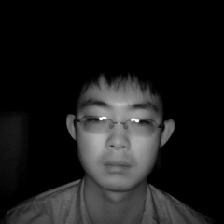normal: (58, 40, 184, 192)
